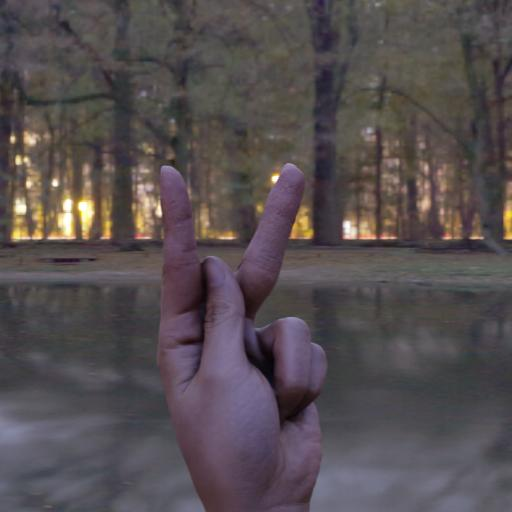K: (141, 154, 352, 512)
